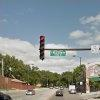Traffic light: (38, 32, 47, 64)
